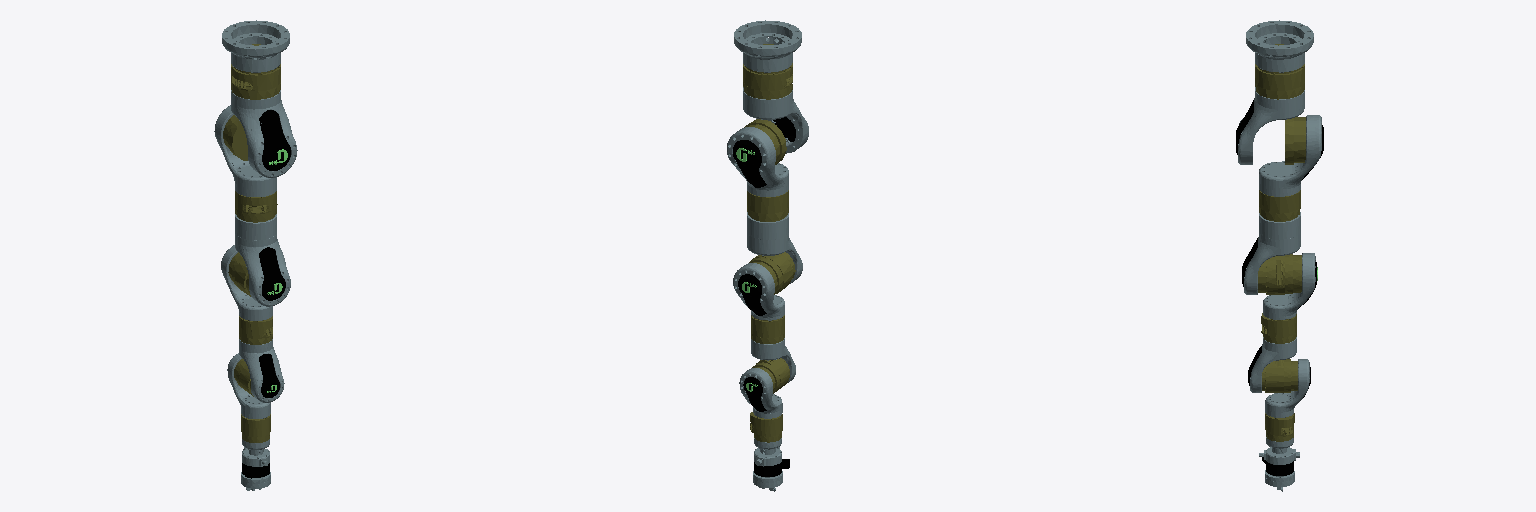
--- What the picture shows (computed from the rendered views, not written in the file) ---
The picture shows the robot from 3 angles, left to right: view 1: azimuth 30°, elevation 25°; view 2: azimuth 150°, elevation 25°; view 3: azimuth 270°, elevation 25°; orthographic projection.
Model hermesArm with 37 links and 36 joints (7 revolute, 29 fixed), rooted at base, posed every joint at zero.
Visible links, largest first — view 1: base, link3_link, link1_link, link2_link, link5_link, link1_tapa, link4_link, base_motor, link6_link, link3_tapa, link2_motor, link2_motor2 (+4 smaller); view 2: base, link2_link, link3_link, link1_link, link4_link, link6_link, base_motor, link2_tapa, link5_link, link2_motor2, link7_link, link4_tapa (+3 smaller); view 3: base, link2_link, link3_link, link1_link, link4_link, link6_link, link5_link, link2_motor, base_motor, link3_motor2, link7_link, link2_motor2 (+4 smaller).
Boxes of the visible links, x1,y1,x2,y2 form: base: (222,20,289,72); link3_link: (235,214,290,306); link1_link: (231,90,297,177); link2_link: (214,105,276,196); link5_link: (239,339,284,402); link1_tapa: (259,110,290,170); link4_link: (221,245,272,320); base_motor: (231,44,280,90); link6_link: (227,353,270,418); link3_tapa: (259,247,285,300); link2_motor: (223,115,247,160); link2_motor2: (235,191,277,213); base: (734,20,801,72); link2_link: (727,127,788,196); link3_link: (747,212,802,283); link1_link: (743,87,808,153); link4_link: (733,263,784,320); link6_link: (739,368,782,418); base_motor: (743,44,792,90); link2_tapa: (733,140,766,187); link5_link: (751,338,795,382); link2_motor2: (747,190,788,213); link7_link: (754,438,781,466); link4_tapa: (738,274,766,315); base: (1246,20,1313,72); link2_link: (1259,115,1321,196); link3_link: (1244,212,1300,294); link1_link: (1238,87,1304,164); link4_link: (1263,253,1315,319); link6_link: (1265,359,1309,417); link5_link: (1250,337,1296,392); link2_motor: (1285,117,1305,164); base_motor: (1255,44,1304,90); link3_motor2: (1258,256,1284,294); link7_link: (1259,437,1299,464); link2_motor2: (1259,190,1300,213).
Size in the robot's own frame: 0.1804 by 0.2315 by 1.32 metres.
Meshes: 36 distinct files referenced, 35 mesh visuals loaded (35 binary STL); not drawn: 1 (reference not matched to a file when rendering).

The robot description file, URDF, robot "hermesArm":
<?xml version="1.0"?>
<robot name="hermesArm">

 <!-- **************************** LINKS ***************************** -->
  <link name="base"> 
    <inertial>
      <origin xyz="0 0 0" /> 
      <mass value="1.0" />
      <inertia  ixx="1.0" ixy="0.0"  ixz="0.0"  iyy="1.0"  iyz="0.0"  izz="1.0" />
    </inertial>
    <visual>
      <origin xyz="0 0 0"/>
      <geometry>
        <mesh filename="package://hermes_arm_kdl/stl/schunk_base1.stl" />
      </geometry>
      <material name="link">
        <color rgba="0.4706 0.5451 0.5647 1"/>
      </material>
    </visual>
    <collision>
      <origin rpy="0 0 0" xyz="0 0 0"/>
      <geometry>
        <mesh filename="package://hermes_arm_kdl/stl/schunk_base1.stl" />
      </geometry>
    </collision>	
  </link>

  <link name="base_motor"> 
    <inertial>
      <origin xyz="0 0 0" /> 
      <mass value="1.0" />
      <inertia  ixx="1.0" ixy="0.0"  ixz="0.0"  iyy="1.0"  iyz="0.0"  izz="1.0" />
    </inertial>
    <visual>
      <origin xyz="0 0 0"/>
      <geometry>
        <mesh filename="package://hermes_arm_kdl/stl/schunk_base2.stl" />
      </geometry>
      <material name="motor">
        <color rgba="0.3922 0.3922 0.2118 1"/>
      </material>
    </visual>
    <collision>
      <origin rpy="0 0 0" xyz="0 0 0"/>
      <geometry>
        <mesh filename="package://hermes_arm_kdl/stl/schunk_base2.stl" />
      </geometry>
    </collision>	
  </link>

  <link name="link1_motor"> 
    <inertial>
      <origin xyz="0 0 0" /> 
      <mass value="1.0" />
      <inertia  ixx="1.0" ixy="0.0"  ixz="0.0"  iyy="1.0"  iyz="0.0"  izz="1.0" />
    </inertial>
    <visual>
      <origin xyz="0 0 0"/>
      <geometry>
        <mesh filename="package://hermes_arm_kdl/stl/schunk_link1_1.stl" />
      </geometry>
      <material name="motor">
        <color rgba="0.3922 0.3922 0.2118 1"/>
      </material>
    </visual>
    <collision>
      <origin rpy="0 0 0" xyz="0 0 0"/>
      <geometry>
        <mesh filename="package://hermes_arm_kdl/stl/schunk_link1_1.stl" />
      </geometry>
    </collision>	
  </link>

  <link name="link1_link"> 
    <inertial>
      <origin xyz="0 0 0" /> 
      <mass value="1.0" />
      <inertia  ixx="1.0" ixy="0.0"  ixz="0.0"  iyy="1.0"  iyz="0.0"  izz="1.0" />
    </inertial>
    <visual>
      <origin xyz="0 0 0"/>
      <geometry>
        <mesh filename="package://hermes_arm_kdl/stl/schunk_link1_2.stl" />
      </geometry>
      <material name="link">
        <color rgba="0.4706 0.5451 0.5647 1"/>
      </material>
    </visual>
    <collision>
      <origin rpy="0 0 0" xyz="0 0 0"/>
      <geometry>
        <mesh filename="package://hermes_arm_kdl/stl/schunk_link1_2.stl" />
      </geometry>
    </collision>	
  </link>
  

  <link name="link1_tapa"> 
    <inertial>
      <origin xyz="0 0 0" /> 
      <mass value="1.0" />
      <inertia  ixx="1.0" ixy="0.0"  ixz="0.0"  iyy="1.0"  iyz="0.0"  izz="1.0" />
    </inertial>
    <visual>
      <origin xyz="0 0 0"/>
      <geometry>
        <mesh filename="package://hermes_arm_kdl/stl/schunk_link1_3.stl" />
      </geometry>
      <material name="tapa">
        <color rgba="0.0100 0.0100 0.0100 1"/>
      </material>
    </visual>
    <collision>
      <origin rpy="0 0 0" xyz="0 0 0"/>
      <geometry>
        <mesh filename="package://hermes_arm_kdl/stl/schunk_link1_3.stl" />
      </geometry>
    </collision>	
  </link>

  <link name="link1_nbio"> 
    <inertial>
      <origin xyz="0 0 0" /> 
      <mass value="1.0" />
      <inertia  ixx="1.0" ixy="0.0"  ixz="0.0"  iyy="1.0"  iyz="0.0"  izz="1.0" />
    </inertial>
    <visual>
      <origin xyz="0 0 0"/>
      <geometry>
        <mesh filename="package://hermes_arm_kdl/stl/schunk_link1_4.stl" />
      </geometry>
      <material name="nbio">
        <color rgba="0.5100 0.9100 0.5100 1"/>
      </material>
    </visual>
    <collision>
      <origin rpy="0 0 0" xyz="0 0 0"/>
      <geometry>
        <mesh filename="package://hermes_arm_kdl/stl/schunk_link1_4.stl" />
      </geometry>
    </collision>	
  </link>


  <link name="link1_motor2"> 
    <inertial>
      <origin xyz="0 0 0" /> 
      <mass value="1.0" />
      <inertia  ixx="1.0" ixy="0.0"  ixz="0.0"  iyy="1.0"  iyz="0.0"  izz="1.0" />
    </inertial>
    <visual>
      <origin xyz="0 0 0"/>
      <geometry>
        <mesh filename="package://hermes_arm_kdl/stl/schunk_link1_5.stl" />
      </geometry>
      <material name="motor">
        <color rgba="0.3922 0.3922 0.2118 1"/>
      </material>
    </visual>
    <collision>
      <origin rpy="0 0 0" xyz="0 0 0"/>
      <geometry>
        <mesh filename="package://hermes_arm_kdl/stl/schunk_link1_5.stl" />
      </geometry>
    </collision>	
  </link>

  <link name="link2_motor"> 
    <inertial>
      <origin xyz="0 0 0" /> 
      <mass value="1.0" />
      <inertia  ixx="1.0" ixy="0.0"  ixz="0.0"  iyy="1.0"  iyz="0.0"  izz="1.0" />
    </inertial>
    <visual>
      <origin xyz="0 0 0"/>
      <geometry>
        <mesh filename="package://hermes_arm_kdl/stl/schunk_link2_1.stl" />
      </geometry>
      <material name="motor">
        <color rgba="0.3922 0.3922 0.2118 1"/>
      </material>
    </visual>
    <collision>
      <origin rpy="0 0 0" xyz="0 0 0"/>
      <geometry>
        <mesh filename="package://hermes_arm_kdl/stl/schunk_link2_1.stl" />
      </geometry>
    </collision>	
  </link>

  <link name="link2_link"> 
    <inertial>
      <origin xyz="0 0 0" /> 
      <mass value="1.0" />
      <inertia  ixx="1.0" ixy="0.0"  ixz="0.0"  iyy="1.0"  iyz="0.0"  izz="1.0" />
    </inertial>
    <visual>
      <origin xyz="0 0 0"/>
      <geometry>
        <mesh filename="package://hermes_arm_kdl/stl/schunk_link2_2.stl" />
      </geometry>
      <material name="link">
        <color rgba="0.4706 0.5451 0.5647 1"/>
      </material>
    </visual>
    <collision>
      <origin rpy="0 0 0" xyz="0 0 0"/>
      <geometry>
        <mesh filename="package://hermes_arm_kdl/stl/schunk_link2_2.stl" />
      </geometry>
    </collision>	
  </link>

  <link name="link2_tapa"> 
    <inertial>
      <origin xyz="0 0 0" /> 
      <mass value="1.0" />
      <inertia  ixx="1.0" ixy="0.0"  ixz="0.0"  iyy="1.0"  iyz="0.0"  izz="1.0" />
    </inertial>
    <visual>
      <origin xyz="0 0 0"/>
      <geometry>
        <mesh filename="package://hermes_arm_kdl/stl/schunk_link2_3.stl" />
      </geometry>
      <material name="tapa">
        <color rgba="0.0100 0.0100 0.0100 1"/>
      </material>
    </visual>
    <collision>
      <origin rpy="0 0 0" xyz="0 0 0"/>
      <geometry>
        <mesh filename="package://hermes_arm_kdl/stl/schunk_link2_3.stl" />
      </geometry>
    </collision>	
  </link>

  <link name="link2_nbio"> 
    <inertial>
      <origin xyz="0 0 0" /> 
      <mass value="1.0" />
      <inertia  ixx="1.0" ixy="0.0"  ixz="0.0"  iyy="1.0"  iyz="0.0"  izz="1.0" />
    </inertial>
    <visual>
      <origin xyz="0 0 0"/>
      <geometry>
        <mesh filename="package://hermes_arm_kdl/stl/schunk_link2_4.stl" />
      </geometry>
      <material name="nbio">
        <color rgba="0.5100 0.9100 0.5100 1"/>
      </material>
    </visual>
    <collision>
      <origin rpy="0 0 0" xyz="0 0 0"/>
      <geometry>
        <mesh filename="package://hermes_arm_kdl/stl/schunk_link2_4.stl" />
      </geometry>
    </collision>	
  </link>

  <link name="link2_motor2"> 
    <inertial>
      <origin xyz="0 0 0" /> 
      <mass value="1.0" />
      <inertia  ixx="1.0" ixy="0.0"  ixz="0.0"  iyy="1.0"  iyz="0.0"  izz="1.0" />
    </inertial>
    <visual>
      <origin xyz="0 0 0"/>
      <geometry>
        <mesh filename="package://hermes_arm_kdl/stl/schunk_link2_5.stl" />
      </geometry>
      <material name="motor">
        <color rgba="0.3922 0.3922 0.2118 1"/>
      </material>
    </visual>
    <collision>
      <origin rpy="0 0 0" xyz="0 0 0"/>
      <geometry>
        <mesh filename="package://hermes_arm_kdl/stl/schunk_link2_5.stl" />
      </geometry>
    </collision>	
  </link>

  <link name="link3_motor"> 
    <inertial>
      <origin xyz="0 0 0" /> 
      <mass value="1.0" />
      <inertia  ixx="1.0" ixy="0.0"  ixz="0.0"  iyy="1.0"  iyz="0.0"  izz="1.0" />
    </inertial>
    <visual>
      <origin xyz="0 0 0"/>
      <geometry>
        <mesh filename="package://hermes_arm_kdl/stl/schunk_link3_1.stl" />
      </geometry>
      <material name="motor">
        <color rgba="0.3922 0.3922 0.2118 1"/>
      </material>
    </visual>
    <collision>
      <origin rpy="0 0 0" xyz="0 0 0"/>
      <geometry>
        <mesh filename="package://hermes_arm_kdl/stl/schunk_link3_1.stl" />
      </geometry>
    </collision>	
  </link>

  <link name="link3_link"> 
    <inertial>
      <origin xyz="0 0 0" /> 
      <mass value="1.0" />
      <inertia  ixx="1.0" ixy="0.0"  ixz="0.0"  iyy="1.0"  iyz="0.0"  izz="1.0" />
    </inertial>
    <visual>
      <origin xyz="0 0 0"/>
      <geometry>
        <mesh filename="package://hermes_arm_kdl/stl/schunk_link3_2.stl" />
      </geometry>
      <material name="link">
        <color rgba="0.4706 0.5451 0.5647 1"/>
      </material>
    </visual>
    <collision>
      <origin rpy="0 0 0" xyz="0 0 0"/>
      <geometry>
        <mesh filename="package://hermes_arm_kdl/stl/schunk_link3_2.stl" />
      </geometry>
    </collision>	
  </link>

  <link name="link3_tapa"> 
    <inertial>
      <origin xyz="0 0 0" /> 
      <mass value="1.0" />
      <inertia  ixx="1.0" ixy="0.0"  ixz="0.0"  iyy="1.0"  iyz="0.0"  izz="1.0" />
    </inertial>
    <visual>
      <origin xyz="0 0 0"/>
      <geometry>
        <mesh filename="package://hermes_arm_kdl/stl/schunk_link3_3.stl" />
      </geometry>
      <material name="tapa">
        <color rgba="0.0100 0.0100 0.0100 1"/>
      </material>
    </visual>
    <collision>
      <origin rpy="0 0 0" xyz="0 0 0"/>
      <geometry>
        <mesh filename="package://hermes_arm_kdl/stl/schunk_link3_3.stl" />
      </geometry>
    </collision>	
  </link>

  <link name="link3_nbio"> 
    <inertial>
      <origin xyz="0 0 0" /> 
      <mass value="1.0" />
      <inertia  ixx="1.0" ixy="0.0"  ixz="0.0"  iyy="1.0"  iyz="0.0"  izz="1.0" />
    </inertial>
    <visual>
      <origin xyz="0 0 0"/>
      <geometry>
        <mesh filename="package://hermes_arm_kdl/stl/schunk_link3_4.stl" />
      </geometry>
      <material name="nbio">
        <color rgba="0.5100 0.9100 0.5100 1"/>
      </material>
    </visual>
    <collision>
      <origin rpy="0 0 0" xyz="0 0 0"/>
      <geometry>
        <mesh filename="package://hermes_arm_kdl/stl/schunk_link3_4.stl" />
      </geometry>
    </collision>	
  </link>

  <link name="link3_motor2"> 
    <inertial>
      <origin xyz="0 0 0" /> 
      <mass value="1.0" />
      <inertia  ixx="1.0" ixy="0.0"  ixz="0.0"  iyy="1.0"  iyz="0.0"  izz="1.0" />
    </inertial>
    <visual>
      <origin xyz="0 0 0"/>
      <geometry>
        <mesh filename="package://hermes_arm_kdl/stl/schunk_link3_5.stl" />
      </geometry>
      <material name="motor">
        <color rgba="0.3922 0.3922 0.2118 1"/>
      </material>
    </visual>
    <collision>
      <origin rpy="0 0 0" xyz="0 0 0"/>
      <geometry>
        <mesh filename="package://hermes_arm_kdl/stl/schunk_link3_5.stl" />
      </geometry>
    </collision>	
  </link>

  <link name="link4_motor"> 
    <inertial>
      <origin xyz="0 0 0" /> 
      <mass value="1.0" />
      <inertia  ixx="1.0" ixy="0.0"  ixz="0.0"  iyy="1.0"  iyz="0.0"  izz="1.0" />
    </inertial>
    <visual>
      <origin xyz="0 0 0"/>
      <geometry>
        <mesh filename="package://hermes_arm_kdl/stl/schunk_link4_1.stl" />
      </geometry>
      <material name="motor">
        <color rgba="0.3922 0.3922 0.2118 1"/>
      </material>
    </visual>
    <collision>
      <origin rpy="0 0 0" xyz="0 0 0"/>
      <geometry>
        <mesh filename="package://hermes_arm_kdl/stl/schunk_link4_1.stl" />
      </geometry>
    </collision>	
  </link>

  <link name="link4_link"> 
    <inertial>
      <origin xyz="0 0 0" /> 
      <mass value="1.0" />
      <inertia  ixx="1.0" ixy="0.0"  ixz="0.0"  iyy="1.0"  iyz="0.0"  izz="1.0" />
    </inertial>
    <visual>
      <origin xyz="0 0 0"/>
      <geometry>
        <mesh filename="package://hermes_arm_kdl/stl/schunk_link4_2.stl" />
      </geometry>
      <material name="link">
        <color rgba="0.4706 0.5451 0.5647 1"/>
      </material>
    </visual>
    <collision>
      <origin rpy="0 0 0" xyz="0 0 0"/>
      <geometry>
        <mesh filename="package://hermes_arm_kdl/stl/schunk_link4_2.stl" />
      </geometry>
    </collision>	
  </link>

  <link name="link4_tapa"> 
    <inertial>
      <origin xyz="0 0 0" /> 
      <mass value="1.0" />
      <inertia  ixx="1.0" ixy="0.0"  ixz="0.0"  iyy="1.0"  iyz="0.0"  izz="1.0" />
    </inertial>
    <visual>
      <origin xyz="0 0 0"/>
      <geometry>
        <mesh filename="package://hermes_arm_kdl/stl/schunk_link4_3.stl" />
      </geometry>
      <material name="tapa">
        <color rgba="0.0100 0.0100 0.0100 1"/>
      </material>
    </visual>
    <collision>
      <origin rpy="0 0 0" xyz="0 0 0"/>
      <geometry>
        <mesh filename="package://hermes_arm_kdl/stl/schunk_link4_3.stl" />
      </geometry>
    </collision>	
  </link>

  <link name="link4_nbio"> 
    <inertial>
      <origin xyz="0 0 0" /> 
      <mass value="1.0" />
      <inertia  ixx="1.0" ixy="0.0"  ixz="0.0"  iyy="1.0"  iyz="0.0"  izz="1.0" />
    </inertial>
    <visual>
      <origin xyz="0 0 0"/>
      <geometry>
        <mesh filename="package://hermes_arm_kdl/stl/schunk_link4_4.stl" />
      </geometry>
      <material name="nbio">
        <color rgba="0.5100 0.9100 0.5100 1"/>
      </material>
    </visual>
    <collision>
      <origin rpy="0 0 0" xyz="0 0 0"/>
      <geometry>
        <mesh filename="package://hermes_arm_kdl/stl/schunk_link4_4.stl" />
      </geometry>
    </collision>	
  </link>

  <link name="link4_motor2"> 
    <inertial>
      <origin xyz="0 0 0" /> 
      <mass value="1.0" />
      <inertia  ixx="1.0" ixy="0.0"  ixz="0.0"  iyy="1.0"  iyz="0.0"  izz="1.0" />
    </inertial>
    <visual>
      <origin xyz="0 0 0"/>
      <geometry>
        <mesh filename="package://hermes_arm_kdl/stl/schunk_link4_5.stl" />
      </geometry>
      <material name="motor">
        <color rgba="0.3922 0.3922 0.2118 1"/>
      </material>
    </visual>
    <collision>
      <origin rpy="0 0 0" xyz="0 0 0"/>
      <geometry>
        <mesh filename="package://hermes_arm_kdl/stl/schunk_link4_5.stl" />
      </geometry>
    </collision>	
  </link>

  <link name="link5_motor"> 
    <inertial>
      <origin xyz="0 0 0" /> 
      <mass value="1.0" />
      <inertia  ixx="1.0" ixy="0.0"  ixz="0.0"  iyy="1.0"  iyz="0.0"  izz="1.0" />
    </inertial>
    <visual>
      <origin xyz="0 0 0"/>
      <geometry>
        <mesh filename="package://hermes_arm_kdl/stl/schunk_link5_1.stl" />
      </geometry>
      <material name="motor">
        <color rgba="0.3922 0.3922 0.2118 1"/>
      </material>
    </visual>
    <collision>
      <origin rpy="0 0 0" xyz="0 0 0"/>
      <geometry>
        <mesh filename="package://hermes_arm_kdl/stl/schunk_link5_1.stl" />
      </geometry>
    </collision>	
  </link>

  <link name="link5_link"> 
    <inertial>
      <origin xyz="0 0 0" /> 
      <mass value="1.0" />
      <inertia  ixx="1.0" ixy="0.0"  ixz="0.0"  iyy="1.0"  iyz="0.0"  izz="1.0" />
    </inertial>
    <visual>
      <origin xyz="0 0 0"/>
      <geometry>
        <mesh filename="package://hermes_arm_kdl/stl/schunk_link5_2.stl" />
      </geometry>
      <material name="link">
        <color rgba="0.4706 0.5451 0.5647 1"/>
      </material>
    </visual>
    <collision>
      <origin rpy="0 0 0" xyz="0 0 0"/>
      <geometry>
        <mesh filename="package://hermes_arm_kdl/stl/schunk_link5_2.stl" />
      </geometry>
    </collision>	
  </link>

  <link name="link5_tapa"> 
    <inertial>
      <origin xyz="0 0 0" /> 
      <mass value="1.0" />
      <inertia  ixx="1.0" ixy="0.0"  ixz="0.0"  iyy="1.0"  iyz="0.0"  izz="1.0" />
    </inertial>
    <visual>
      <origin xyz="0 0 0"/>
      <geometry>
        <mesh filename="package://hermes_arm_kdl/stl/schunk_link5_3.stl" />
      </geometry>
      <material name="tapa">
        <color rgba="0.0100 0.0100 0.0100 1"/>
      </material>
    </visual>
    <collision>
      <origin rpy="0 0 0" xyz="0 0 0"/>
      <geometry>
        <mesh filename="package://hermes_arm_kdl/stl/schunk_link5_3.stl" />
      </geometry>
    </collision>	
  </link>

  <link name="link5_nbio"> 
    <inertial>
      <origin xyz="0 0 0" /> 
      <mass value="1.0" />
      <inertia  ixx="1.0" ixy="0.0"  ixz="0.0"  iyy="1.0"  iyz="0.0"  izz="1.0" />
    </inertial>
    <visual>
      <origin xyz="0 0 0"/>
      <geometry>
        <mesh filename="package://hermes_arm_kdl/stl/schunk_link5_4.stl" />
      </geometry>
      <material name="nbio">
        <color rgba="0.5100 0.9100 0.5100 1"/>
      </material>
    </visual>
    <collision>
      <origin rpy="0 0 0" xyz="0 0 0"/>
      <geometry>
        <mesh filename="package://hermes_arm_kdl/stl/schunk_link5_4.stl" />
      </geometry>
    </collision>	
  </link>

 <link name="link5_motor2"> 
    <inertial>
      <origin xyz="0 0 0" /> 
      <mass value="1.0" />
      <inertia  ixx="1.0" ixy="0.0"  ixz="0.0"  iyy="1.0"  iyz="0.0"  izz="1.0" />
    </inertial>
    <visual>
      <origin xyz="0 0 0"/>
      <geometry>
        <mesh filename="package://hermes_arm_kdl/stl/schunk_link5_5.stl" />
      </geometry>
      <material name="motor">
        <color rgba="0.3922 0.3922 0.2118 1"/>
      </material>
    </visual>
    <collision>
      <origin rpy="0 0 0" xyz="0 0 0"/>
      <geometry>
        <mesh filename="package://hermes_arm_kdl/stl/schunk_link5_5.stl" />
      </geometry>
    </collision>	
  </link>



  <link name="link6_motor"> 
    <inertial>
      <origin xyz="0 0 0" /> 
      <mass value="1.0" />
      <inertia  ixx="1.0" ixy="0.0"  ixz="0.0"  iyy="1.0"  iyz="0.0"  izz="1.0" />
    </inertial>
    <visual>
      <origin xyz="0 0 0"/>
      <geometry>
        <mesh filename="package://hermes_arm_kdl/stl/schunk_link6_1.stl" />
      </geometry>
      <material name="motor">
        <color rgba="0.3922 0.3922 0.2118 1"/>
      </material>
    </visual>
    <collision>
      <origin rpy="0 0 0" xyz="0 0 0"/>
      <geometry>
        <mesh filename="package://hermes_arm_kdl/stl/schunk_link6_1.stl" />
      </geometry>
    </collision>	
  </link>

  <link name="link6_link"> 
    <inertial>
      <origin xyz="0 0 0" /> 
      <mass value="1.0" />
      <inertia  ixx="1.0" ixy="0.0"  ixz="0.0"  iyy="1.0"  iyz="0.0"  izz="1.0" />
    </inertial>
    <visual>
      <origin xyz="0 0 0"/>
      <geometry>
        <mesh filename="package://hermes_arm_kdl/stl/schunk_link6_2.stl" />
      </geometry>
      <material name="link">
        <color rgba="0.4706 0.5451 0.5647 1"/>
      </material>
    </visual>
    <collision>
      <origin rpy="0 0 0" xyz="0 0 0"/>
      <geometry>
        <mesh filename="package://hermes_arm_kdl/stl/schunk_link6_2.stl" />
      </geometry>
    </collision>	
  </link>


  <link name="link6_tapa"> 
    <inertial>
      <origin xyz="0 0 0" /> 
      <mass value="1.0" />
      <inertia  ixx="1.0" ixy="0.0"  ixz="0.0"  iyy="1.0"  iyz="0.0"  izz="1.0" />
    </inertial>
    <visual>
      <origin xyz="0 0 0"/>
      <geometry>
        <mesh filename="package://hermes_arm_kdl/stl/schunk_link6_3.stl" />
      </geometry>
      <material name="tapa">
        <color rgba="0.0100 0.0100 0.0100 1"/>
      </material>
    </visual>
    <collision>
      <origin rpy="0 0 0" xyz="0 0 0"/>
      <geometry>
        <mesh filename="package://hermes_arm_kdl/stl/schunk_link6_3.stl" />
      </geometry>
    </collision>	
  </link>


  <link name="link6_nbio"> 
    <inertial>
      <origin xyz="0 0 0" /> 
      <mass value="1.0" />
      <inertia  ixx="1.0" ixy="0.0"  ixz="0.0"  iyy="1.0"  iyz="0.0"  izz="1.0" />
    </inertial>
    <visual>
      <origin xyz="0 0 0"/>
      <geometry>
        <mesh filename="package://hermes_arm_kdl/stl/schunk_link6_4.stl" />
      </geometry>
      <material name="nbio">
        <color rgba="0.5100 0.9100 0.5100 1"/>
      </material>
    </visual>
    <collision>
      <origin rpy="0 0 0" xyz="0 0 0"/>
      <geometry>
        <mesh filename="package://hermes_arm_kdl/stl/schunk_link6_4.stl" />
      </geometry>
    </collision>	
  </link>

  <link name="link6_motor2"> 
    <inertial>
      <origin xyz="0 0 0" /> 
      <mass value="1.0" />
      <inertia  ixx="1.0" ixy="0.0"  ixz="0.0"  iyy="1.0"  iyz="0.0"  izz="1.0" />
    </inertial>
    <visual>
      <origin xyz="0 0 0"/>
      <geometry>
        <mesh filename="package://hermes_arm_kdl/stl/schunk_link6_5.stl" />
      </geometry>
      <material name="motor">
        <color rgba="0.3922 0.3922 0.2118 1"/>
      </material>
    </visual>
    <collision>
      <origin rpy="0 0 0" xyz="0 0 0"/>
      <geometry>
        <mesh filename="package://hermes_arm_kdl/stl/schunk_link6_5.stl" />
      </geometry>
    </collision>	
  </link>
  
 
  <link name="link7_motor"> 
    <inertial>
      <origin xyz="0 0 0" /> 
      <mass value="1.0" />
      <inertia  ixx="1.0" ixy="0.0"  ixz="0.0"  iyy="1.0"  iyz="0.0"  izz="1.0" />
    </inertial>
    <visual>
      <origin xyz="0 0 0"/>
      <geometry>
        <mesh filename="package://hermes_arm_kdl/stl/schunk_link7_1.stl" />
      </geometry>
      <material name="motor">
        <color rgba="0.3922 0.3922 0.2118 1"/>
      </material>
    </visual>
    <collision>
      <origin rpy="0 0 0" xyz="0 0 0"/>
      <geometry>
        <mesh filename="package://hermes_arm_kdl/stl/schunk_link7_1.stl" />
      </geometry>
    </collision>	
  </link>


  <link name="link7_link"> 
    <inertial>
      <origin xyz="0 0 0" /> 
      <mass value="1.0" />
      <inertia  ixx="1.0" ixy="0.0"  ixz="0.0"  iyy="1.0"  iyz="0.0"  izz="1.0" />
    </inertial>
    <visual>
      <origin xyz="0 0 0"/>
      <geometry>
        <mesh filename="package://hermes_arm_kdl/stl/schunk_link7_2.stl" />
      </geometry>
      <material name="link">
        <color rgba="0.4706 0.5451 0.5647 1"/>
      </material>
    </visual>
    <collision>
      <origin rpy="0 0 0" xyz="0 0 0"/>
      <geometry>
        <mesh filename="package://hermes_arm_kdl/stl/schunk_link7_2.stl" />
      </geometry>
    </collision>	
  </link>

  <link name="link7_tapa"> 
    <inertial>
      <origin xyz="0 0 0" /> 
      <mass value="1.0" />
      <inertia  ixx="1.0" ixy="0.0"  ixz="0.0"  iyy="1.0"  iyz="0.0"  izz="1.0" />
    </inertial>
    <visual>
      <origin xyz="0 0 0"/>
      <geometry>
        <mesh filename="package://hermes_arm_kdl/stl/schunk_link7_3.stl" />
      </geometry>
      <material name="tapa">
        <color rgba="0.01 0.01 0.01 1"/>
      </material>
    </visual>
    <collision>
      <origin rpy="0 0 0" xyz="0 0 0"/>
      <geometry>
        <mesh filename="package://hermes_arm_kdl/stl/schunk_link7_3.stl" />
      </geometry>
    </collision>	
  </link>


  <link name="link7_link2"> 
    <inertial>
      <origin xyz="0 0 0" /> 
      <mass value="1.0" />
      <inertia  ixx="1.0" ixy="0.0"  ixz="0.0"  iyy="1.0"  iyz="0.0"  izz="1.0" />
    </inertial>
    <visual>
      <origin xyz="0 0 0"/>
      <geometry>
        <mesh filename="package://hermes_arm_kdl/stl/schunk_link7_4.stl" />
      </geometry>
      <material name="link">
        <color rgba="0.4706 0.5451 0.5647 1"/>
      </material>
    </visual>
    <collision>
      <origin rpy="0 0 0" xyz="0 0 0"/>
      <geometry>
        <mesh filename="package://hermes_arm_kdl/stl/schunk_link7_4.stl" />
      </geometry>
    </collision>
  </link>
  

  <link name="eef"/> 
  

 <!-- **************************** JOINTS ***************************** -->
  <joint name="base_fixed" type="fixed">
    <parent link="base"/>
    <child link="base_motor"/>
  </joint>


  <joint name="joint1" type="revolute">
    <parent link="base_motor"/>
    <child link="link1_motor"/>
    <origin xyz="0 0 0" rpy="0 0 0" />
    <limit effort="100" velocity="100" lower="-3.14" upper="3.14" />
    <axis xyz="0 0 1" />
  </joint>

  <joint name="joint1_motor_link" type="fixed">
    <parent link="link1_motor"/>
    <child link="link1_link"/>
  </joint>
  
  <joint name="joint1_link_tapa" type="fixed">
    <parent link="link1_link"/>
    <child link="link1_tapa"/>
  </joint>

  <joint name="joint1_tapa_nbio" type="fixed">
    <parent link="link1_tapa"/>
    <child link="link1_nbio"/>
  </joint>

  <joint name="joint1_nbio_motor2" type="fixed">
    <parent link="link1_nbio"/>
    <child link="link1_motor2"/>
  </joint>

  <joint name="joint2" type="revolute">
    <parent link="link1_motor2"/>
    <child link="link2_motor"/>
    <origin xyz="0 0 -0.306" rpy="1.5707963267949 0 0" />
    <axis xyz="0 0 1" />
    <limit effort="100" velocity="100" lower="-1.83" upper="1.83" />
  </joint>

  <joint name="joint2_motor_link" type="fixed">
    <parent link="link2_motor"/>
    <child link="link2_link"/>
  </joint>

  <joint name="joint2_link_tapa" type="fixed">
    <parent link="link2_link"/>
    <child link="link2_tapa"/>
  </joint>

  <joint name="joint2_tapa_nbio" type="fixed">
    <parent link="link2_tapa"/>
    <child link="link2_nbio"/>
  </joint>

  <joint name="joint2_nbio_motor2" type="fixed">
    <parent link="link2_nbio"/>
    <child link="link2_motor2"/>
  </joint>

  <joint name="joint3" type="revolute">
    <parent link="link2_motor2"/>
    <child link="link3_motor"/>
    <origin xyz="0 0 0" rpy="-1.5707963267949 0 0" />
    <axis xyz="0 0 1" />
    <limit effort="100" velocity="100" lower="-3.14" upper="3.14" />
  </joint>

  <joint name="joint3_motor_link" type="fixed">
    <parent link="link3_motor"/>
    <child link="link3_link"/>
  </joint>

  <joint name="joint3_link_tapa" type="fixed">
    <parent link="link3_link"/>
    <child link="link3_tapa"/>
  </joint>

  <joint name="joint3_tapa_nbio" type="fixed">
    <parent link="link3_tapa"/>
    <child link="link3_nbio"/>
  </joint>

  <joint name="joint3_nbio_motor2" type="fixed">
    <parent link="link3_nbio"/>
    <child link="link3_motor2"/>
  </joint>

  <joint name="joint4" type="revolute">
    <parent link="link3_motor2"/>
    <child link="link4_motor"/>
    <origin xyz="0 0 -0.3910" rpy="1.5707963267949 0 0" />
    <axis xyz="0 0 1" />
    <limit effort="100" velocity="100" lower="-1.83" upper="1.83" />
  </joint>

  <joint name="joint4_motor_link" type="fixed">
    <parent link="link4_motor"/>
    <child link="link4_link"/>
  </joint>

  <joint name="joint4_link_tapa" type="fixed">
    <parent link="link4_link"/>
    <child link="link4_tapa"/>
  </joint>

  <joint name="joint4_tapa_nbio" type="fixed">
    <parent link="link4_tapa"/>
    <child link="link4_nbio"/>
  </joint>

  <joint name="joint4_nbio_motor2" type="fixed">
    <parent link="link4_nbio"/>
    <child link="link4_motor2"/>
  </joint>

  <joint name="joint5" type="revolute">
    <parent link="link4_motor2"/>
    <child link="link5_motor"/>
    <origin xyz="0 0 0" rpy="-1.5707963267949 0 0" />
    <axis xyz="0 0 1" /> 
    <limit effort="100" velocity="100" lower="-3.14" upper="3.14" />
  </joint>

  <joint name="joint5_motor_link" type="fixed">
    <parent link="link5_motor"/>
    <child link="link5_link"/>
  </joint>

  <joint name="joint5_link_tapa" type="fixed">
    <parent link="link5_link"/>
    <child link="link5_tapa"/>
  </joint>

  <joint name="joint5_tapa_nbio" type="fixed">
    <parent link="link5_tapa"/>
    <child link="link5_nbio"/>
  </joint>

  <joint name="joint5_nbio_motor2" type="fixed">
    <parent link="link5_nbio"/>
    <child link="link5_motor2"/>
  </joint>

  <joint name="joint6" type="revolute">
    <parent link="link5_motor2"/>
    <child link="link6_motor"/>
    <origin xyz="0 0 -0.2975" rpy="1.5707963267949 0 0" />
    <axis xyz="0 0 1" /> 
    <limit effort="100" velocity="100" lower="-1.83" upper="1.83" />
  </joint>

  <joint name="joint6_motor_link" type="fixed">
    <parent link="link6_motor"/>
    <child link="link6_link"/>
  </joint>

  <joint name="joint6_link_tapa" type="fixed">
    <parent link="link6_link"/>
    <child link="link6_tapa"/>
  </joint>

  <joint name="joint6_tapa_nbio" type="fixed">
    <parent link="link6_tapa"/>
    <child link="link6_nbio"/>
  </joint>

  <joint name="joint6_nbio_motor2" type="fixed">
    <parent link="link6_nbio"/>
    <child link="link6_motor2"/>
  </joint>


  <joint name="joint7" type="revolute">
    <parent link="link6_motor2"/>
    <child link="link7_motor"/>
    <origin xyz="0 0 0" rpy="-1.5707963267949 0 0" />
    <axis xyz="0 0 1" />
    <limit effort="100" velocity="100" lower="-3.14" upper="3.14" />
  </joint>

  <joint name="joint7_motor_link" type="fixed">
    <parent link="link7_motor"/>
    <child link="link7_link"/>
  </joint>

  <joint name="joint7_link_tapa" type="fixed">
    <parent link="link7_link"/>
    <child link="link7_tapa"/>
  </joint>

  <joint name="joint7_tapa_link2" type="fixed">
    <parent link="link7_tapa"/>
    <child link="link7_link2"/>
  </joint>
  
  <joint name="joint_eef" type="fixed">
    <parent link="link7_link2"/>
    <child link="eef"/>
    <origin xyz="0 0 -0.3045" rpy="3.1416 0 0" />
  </joint>


</robot>
